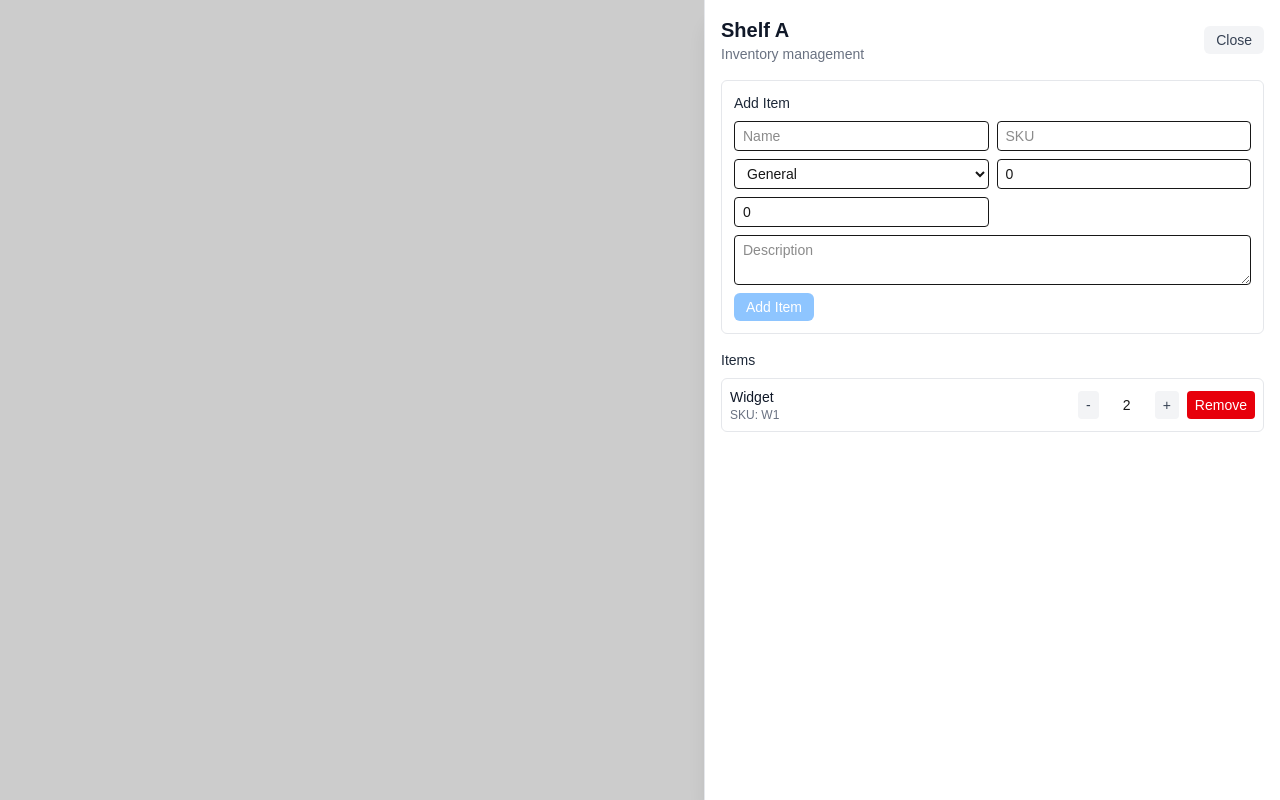
ShelfDetailPanel › removes item optimistically
Click the button with aria-label "Remove Widget". click: coordinates (1221, 405)
box: [1187,391,1255,419]
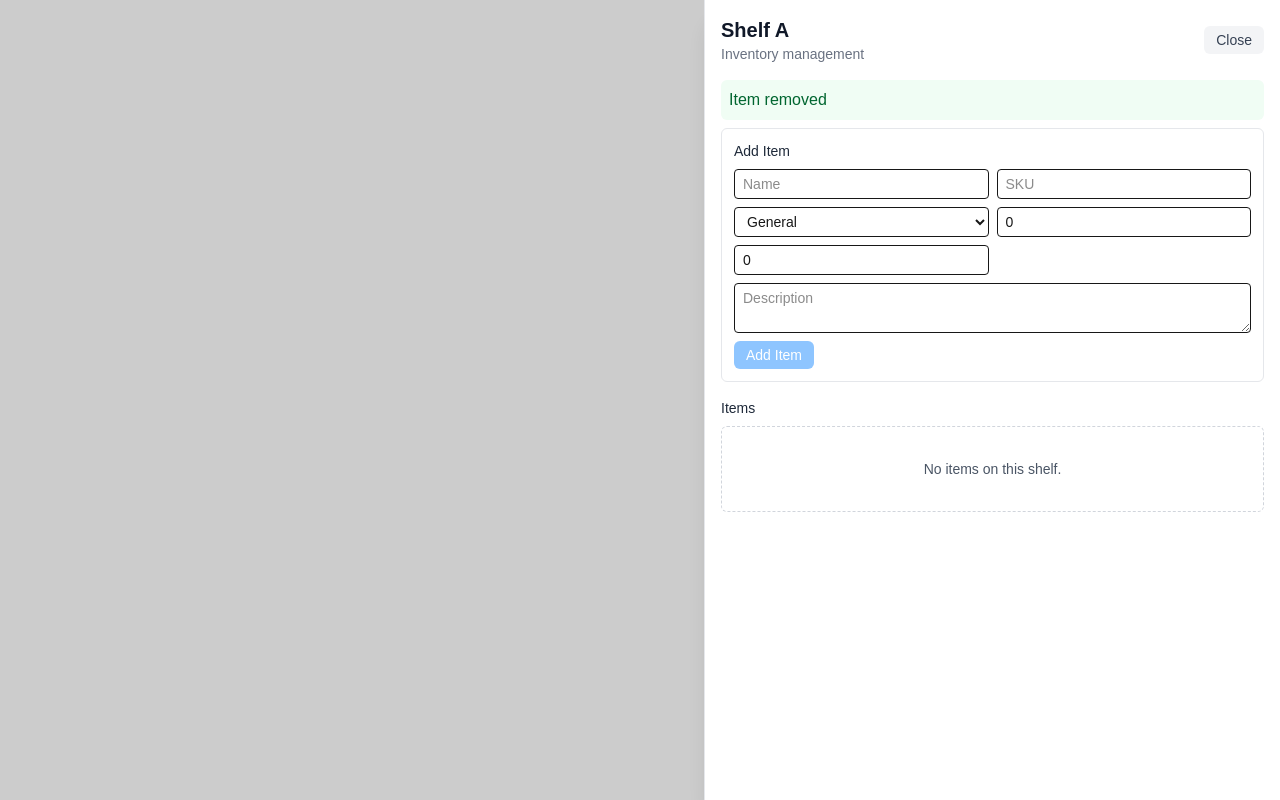
Now the text "Widget" is gone
Now the text with test id "status-success" reads "Item removed", box [729,91,827,108]
